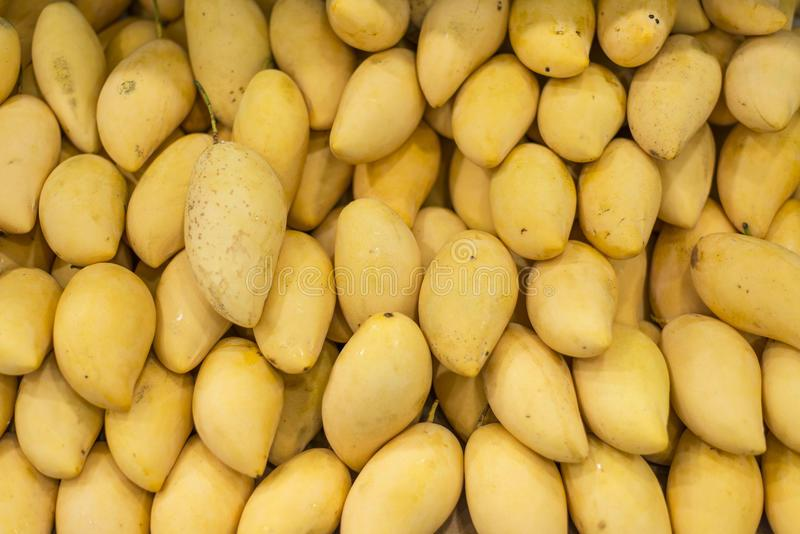xoai: (183, 139, 287, 326), (320, 308, 434, 475), (52, 263, 157, 413), (663, 313, 768, 458), (95, 38, 196, 173), (330, 43, 427, 165), (490, 143, 578, 260)
